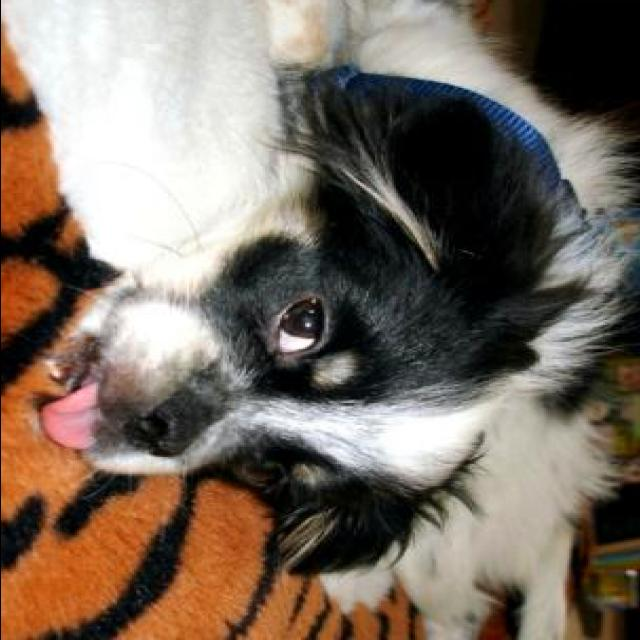husky: (38, 1, 625, 634)
